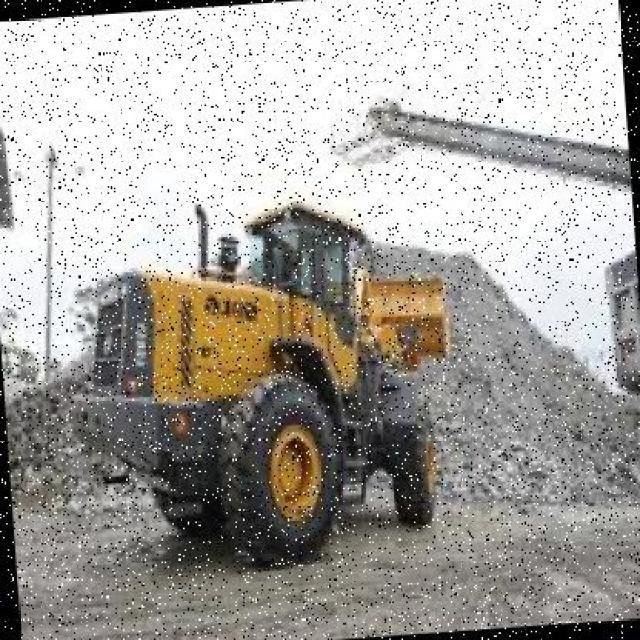buldozerpayloadergrader: (70, 200, 470, 565)
